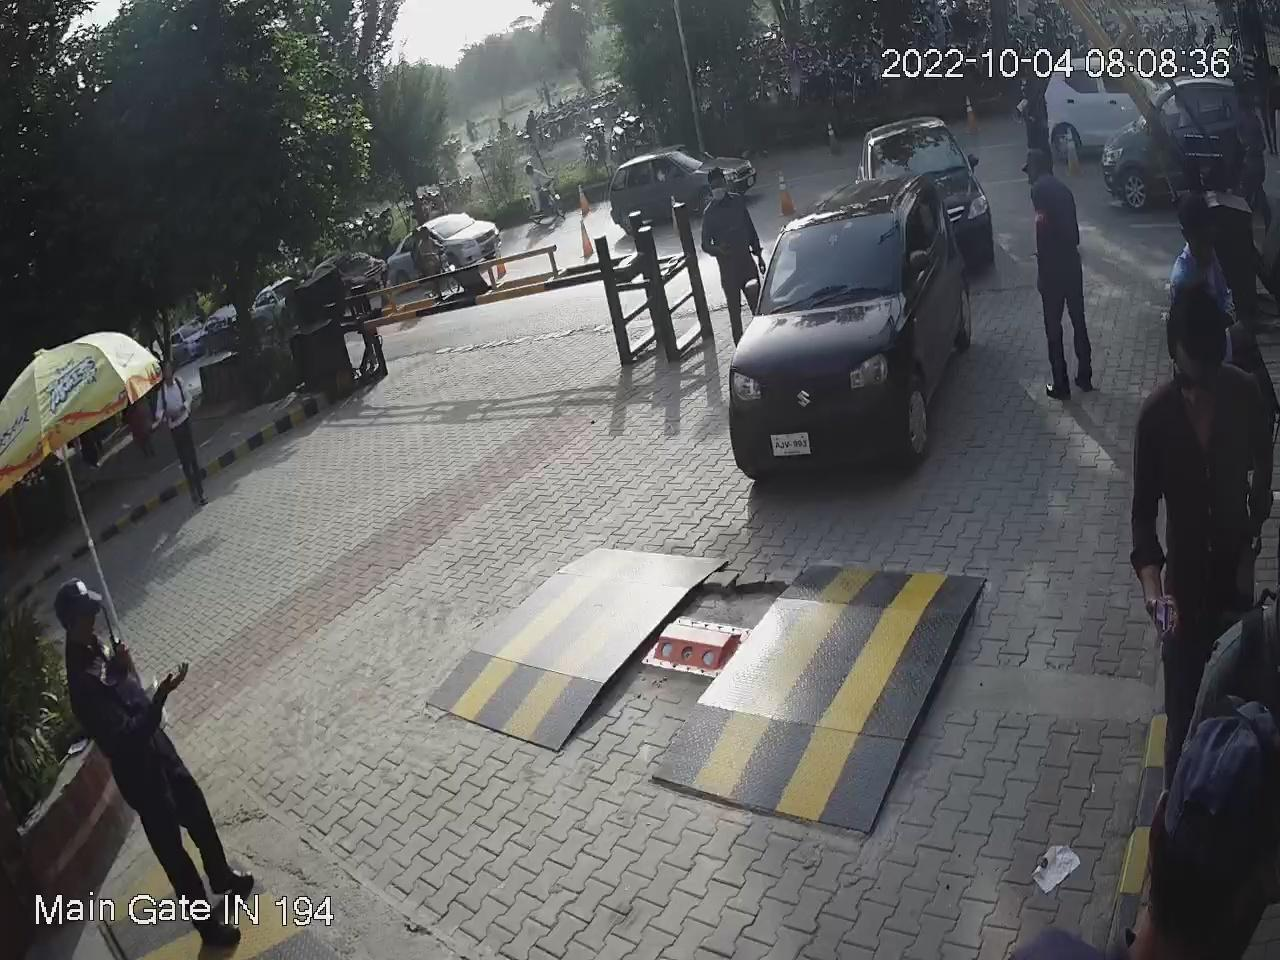windshield: (758, 205, 898, 320)
